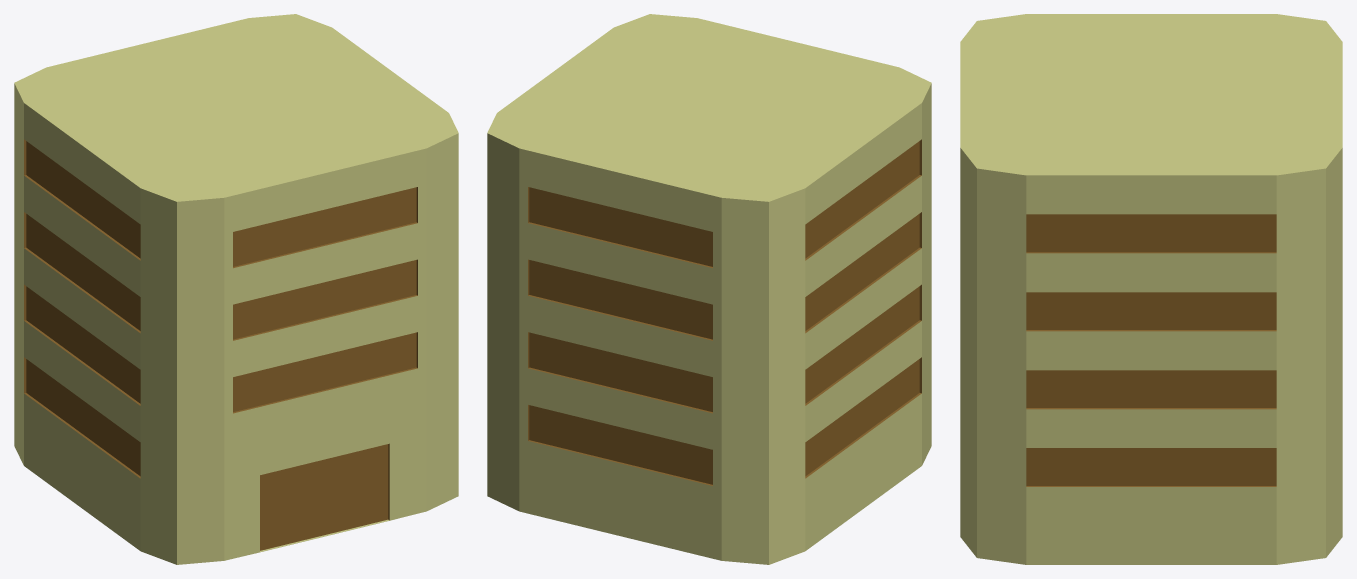
File: House3_M_v1_Carrie.FBX
3 renders of one model, left to right at view 1: azimuth 30°, elevation 25°; view 2: azimuth 150°, elevation 25°; view 3: azimuth 270°, elevation 25°, orthographic. The views are drawn at different scales.
Parts seen in each view (by area): view 1: House3; view 2: House3; view 3: House3.
Boxes of the visible parts, <box> form: House3: <box>14,14,458,564</box>; House3: <box>487,14,931,564</box>; House3: <box>960,14,1342,564</box>.
Bounding box in the file's own units: 800 × 901 × 800.
